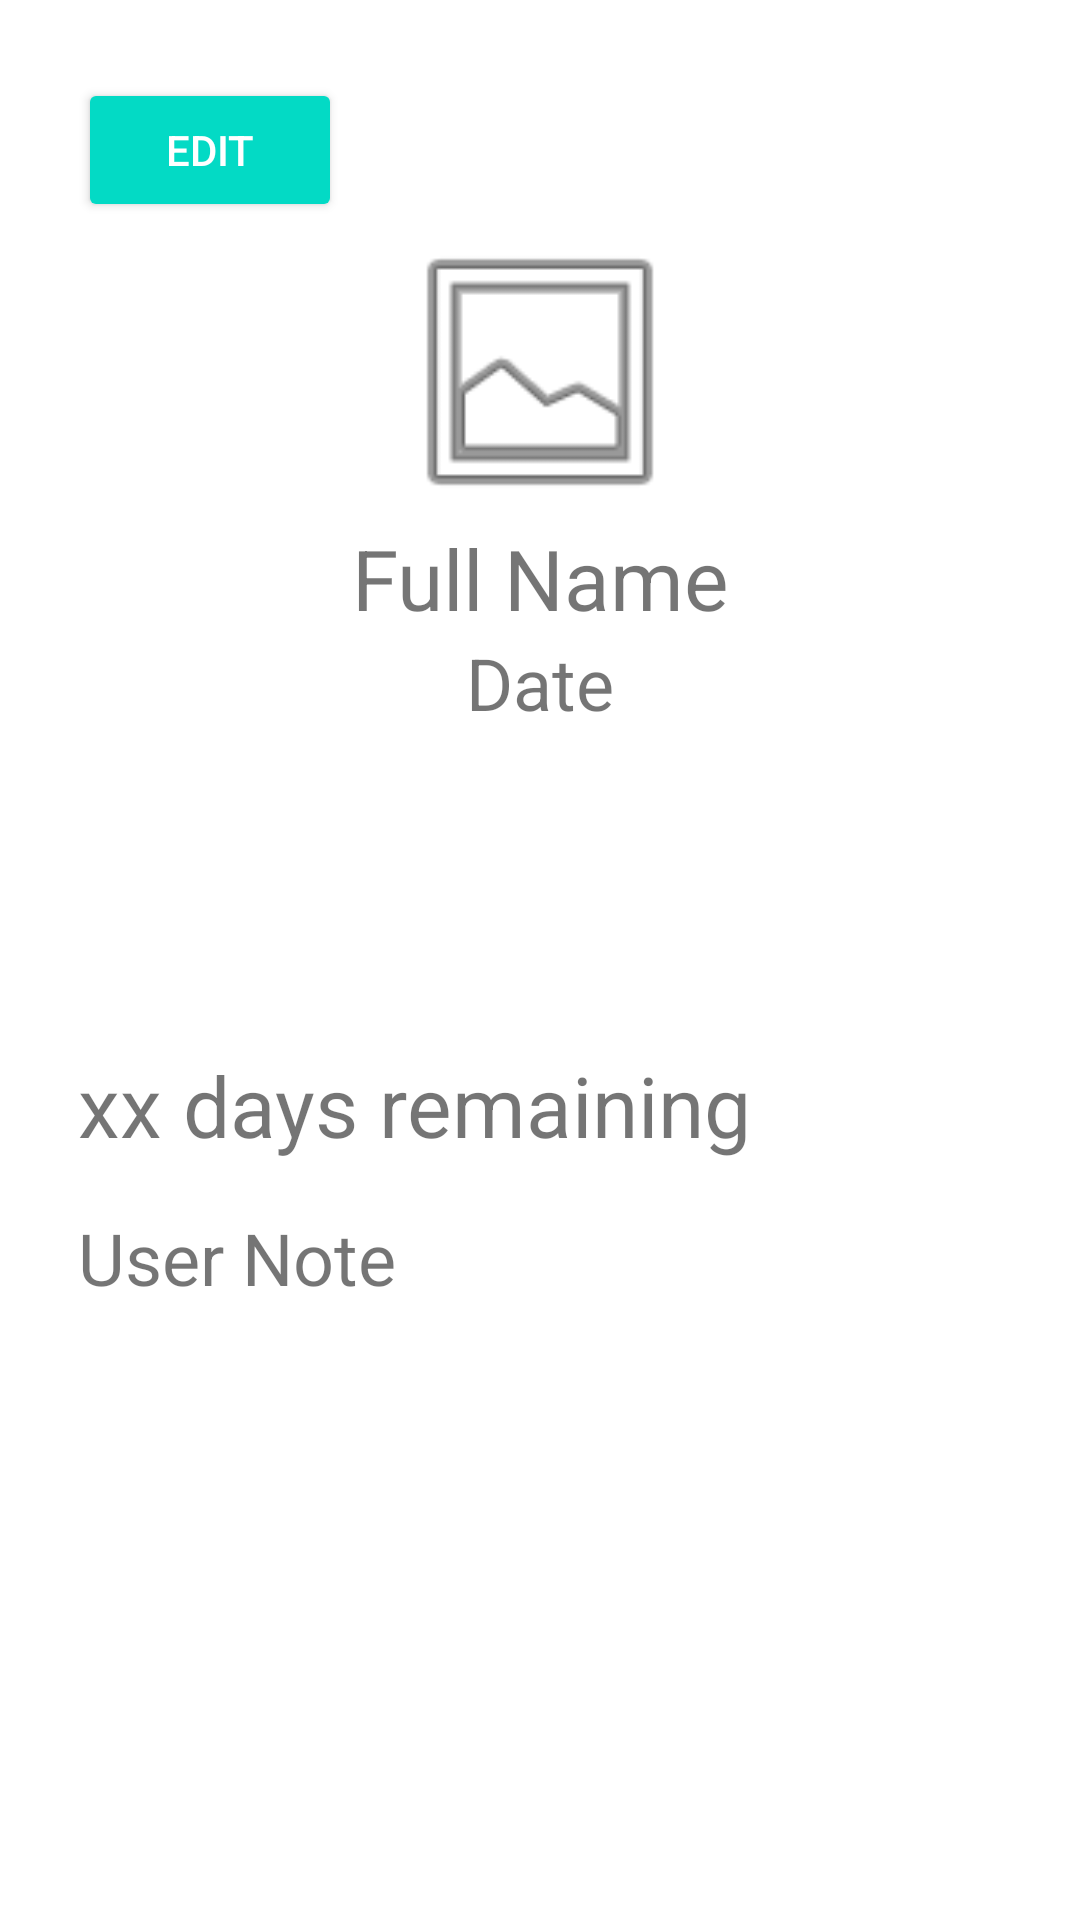

Where to tap for icons on this 1080×1920 app screen, as (x,y):
gallery: (540,372)
